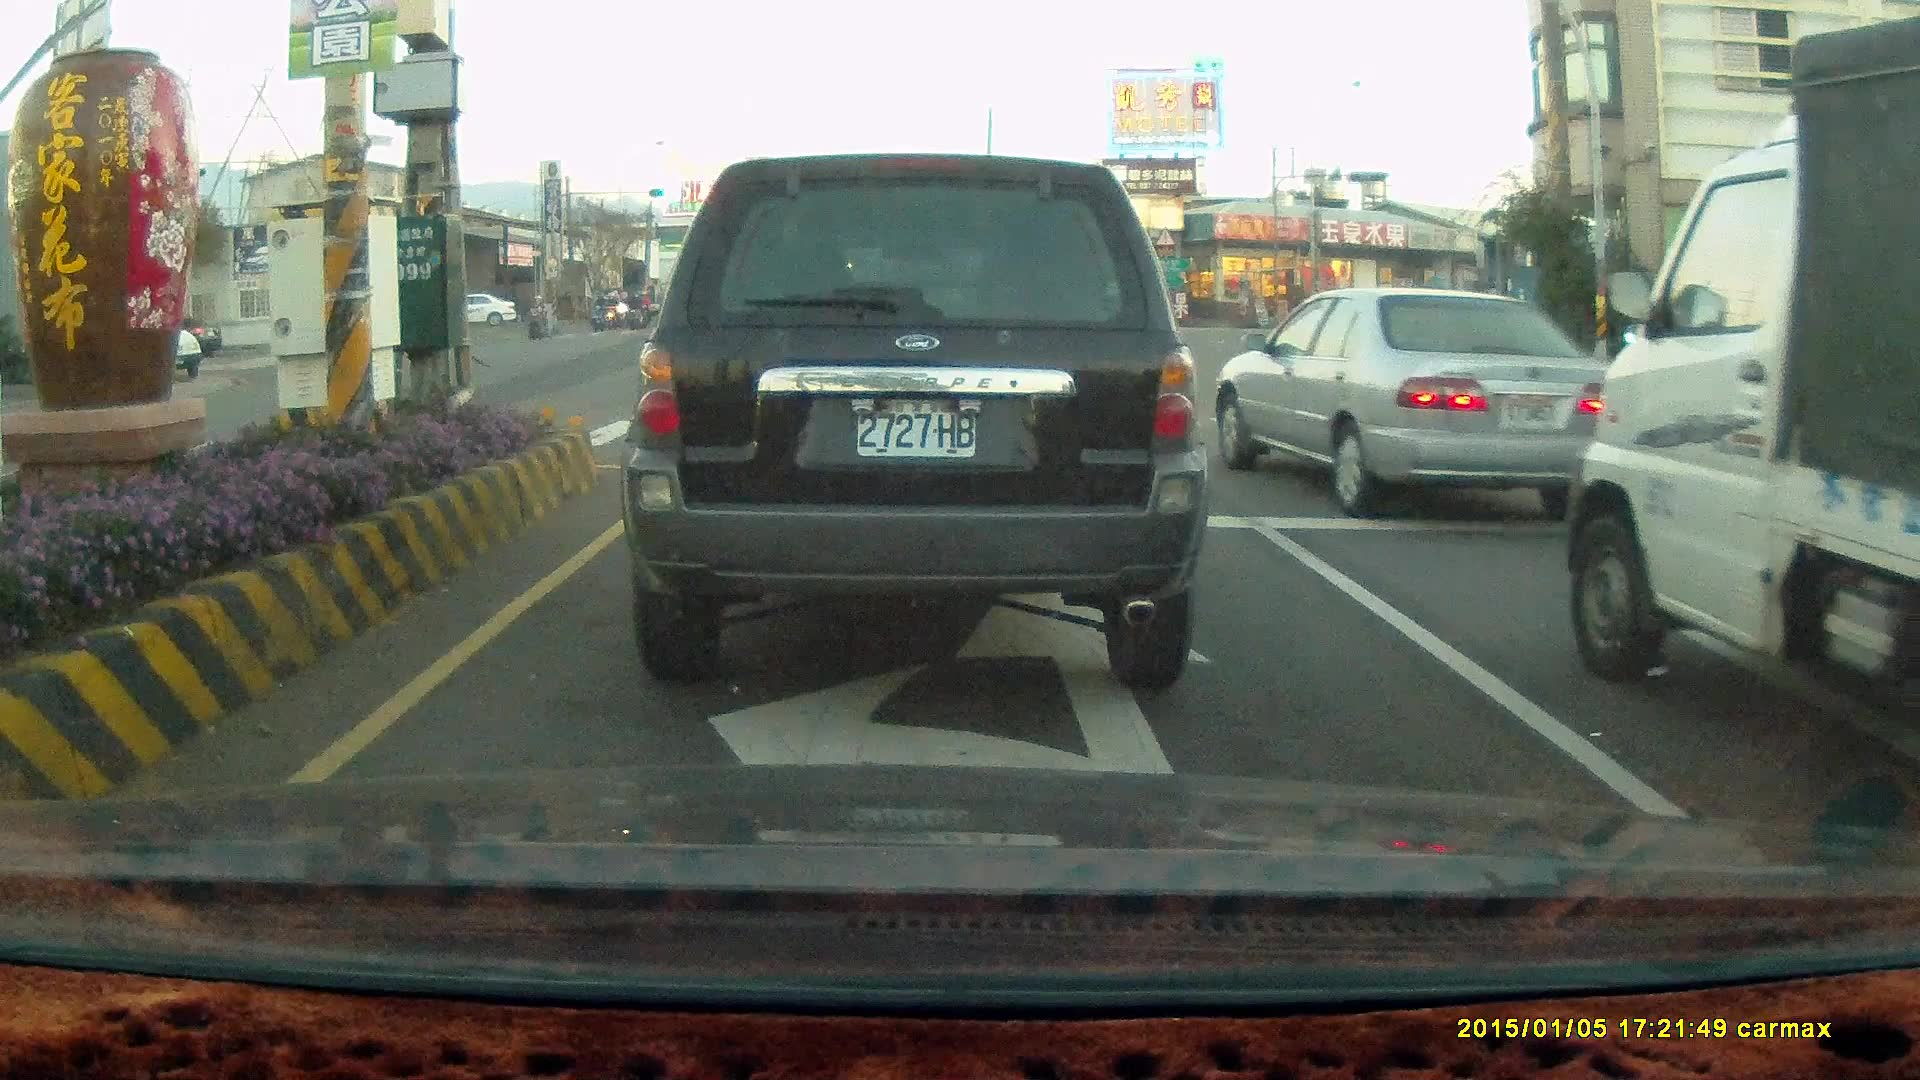rider: (519, 291, 550, 341), (624, 289, 648, 332), (587, 290, 608, 333), (591, 294, 613, 332)
vehicle: (618, 153, 1209, 693), (1561, 12, 1920, 808), (1209, 285, 1622, 519), (1208, 288, 1609, 520), (1673, 280, 1830, 371), (448, 295, 518, 328)
